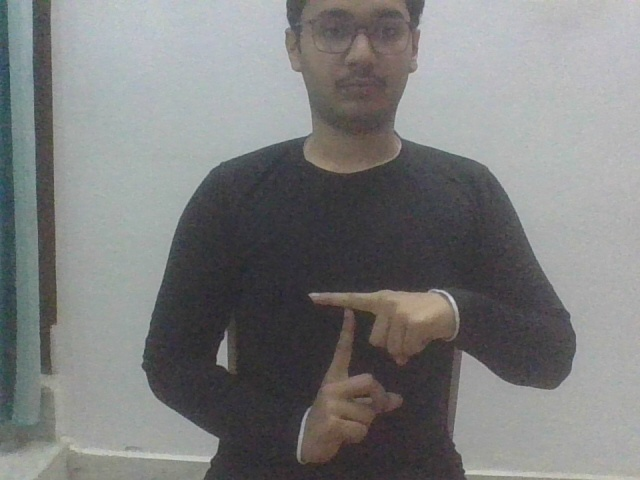T: (295, 284, 457, 466)
